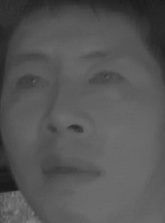eye: (89, 67, 126, 91), (13, 70, 49, 94)
mouth: (36, 152, 104, 188)
